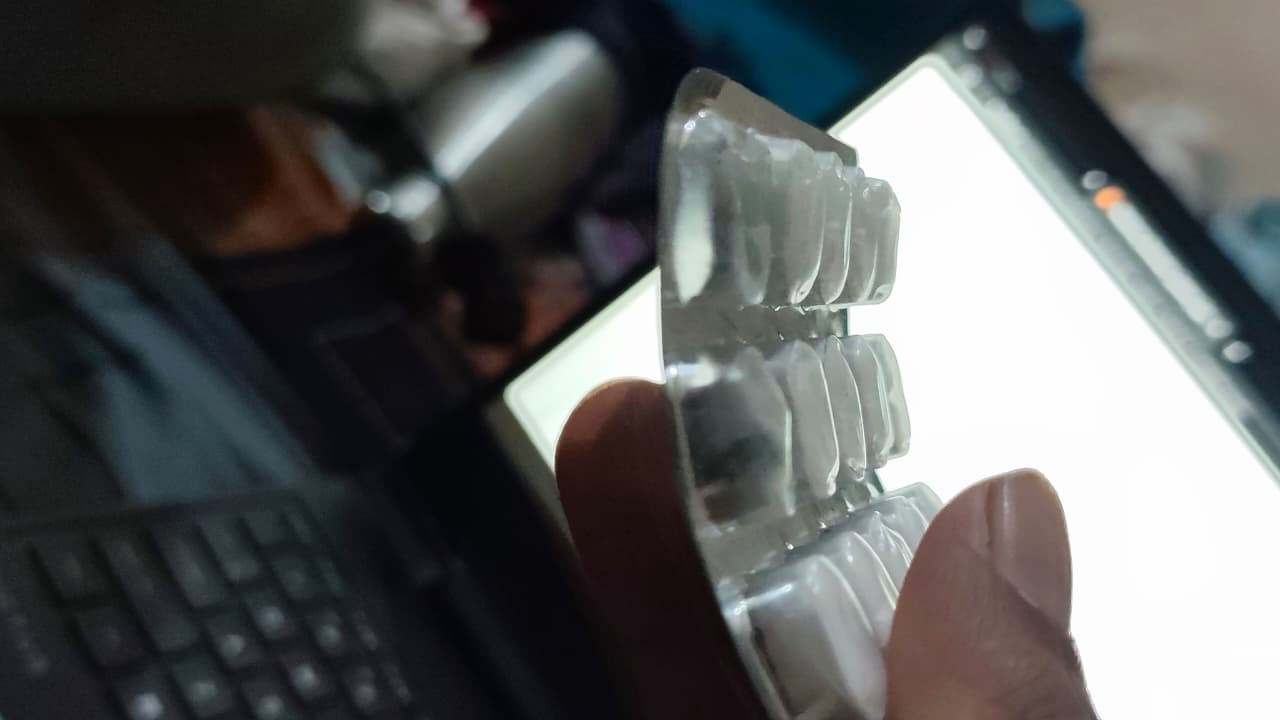MedicineStrip: (590, 60, 1000, 720)
